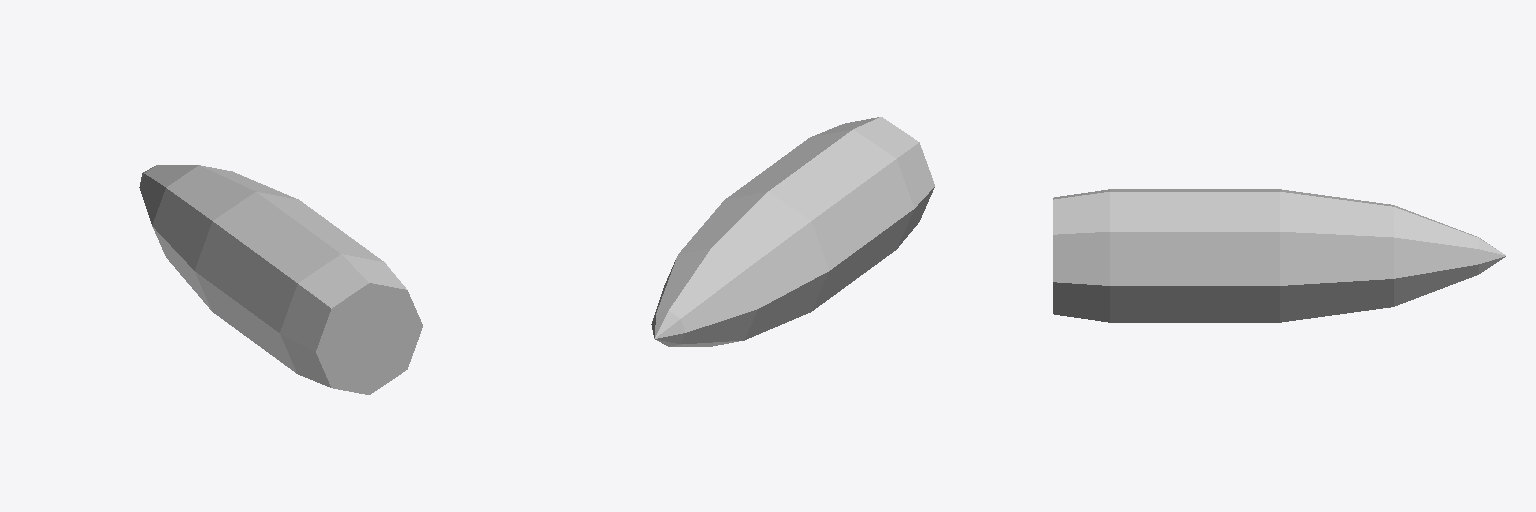
File: Bullet.obj
The picture shows the model from 3 angles: view 1: azimuth 30°, elevation 25°; view 2: azimuth 150°, elevation 25°; view 3: azimuth 270°, elevation 25°; orthographic projection.
Visible parts, largest first — view 1: メッシュ; view 2: メッシュ; view 3: メッシュ.
Part boxes in pixels (left/top/right/bottom): メッシュ: left=139, top=165, right=422, bottom=394; メッシュ: left=651, top=117, right=934, bottom=346; メッシュ: left=1053, top=189, right=1505, bottom=322.
Size of the model in its own units: 0.125 by 0.125 by 0.4.